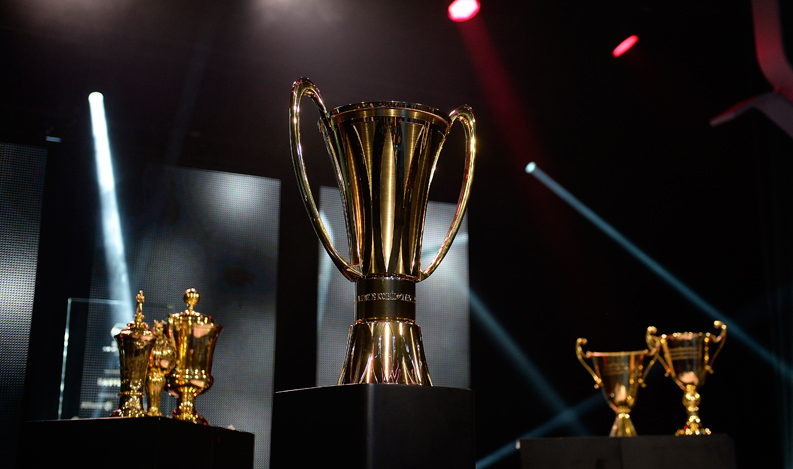trophy: (285, 71, 486, 429), (644, 319, 731, 443), (571, 333, 663, 448), (167, 285, 225, 430), (113, 286, 156, 421), (150, 317, 174, 419)
